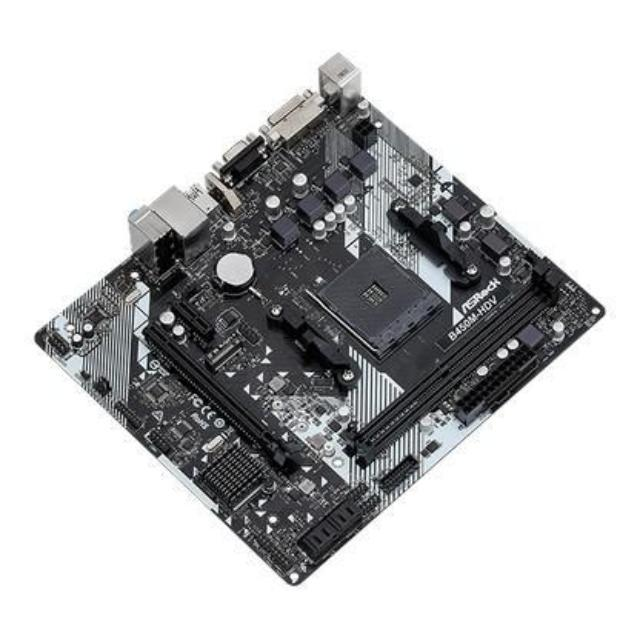Mainboard: (20, 54, 605, 588)
